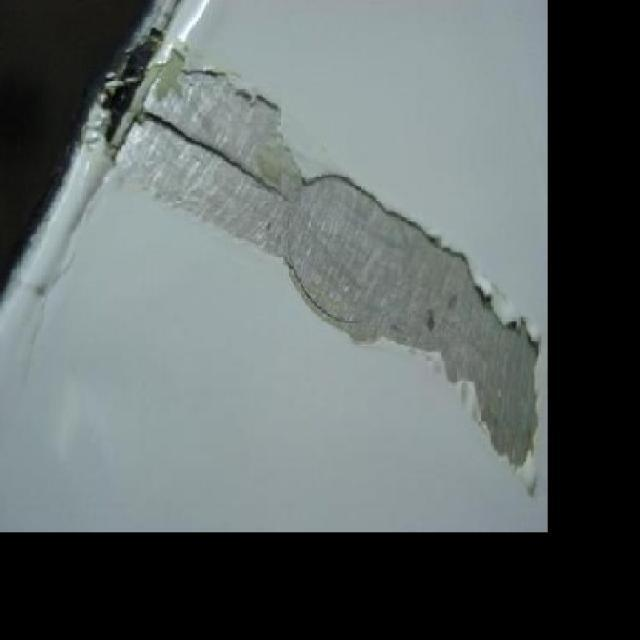crack: (209, 148, 286, 196), (149, 112, 209, 148)
